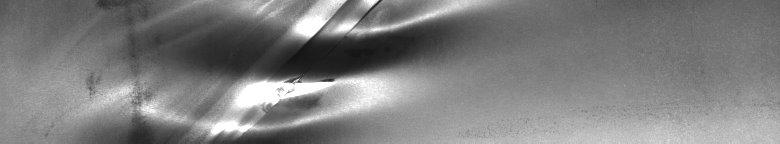ke: (87, 4, 486, 136)
